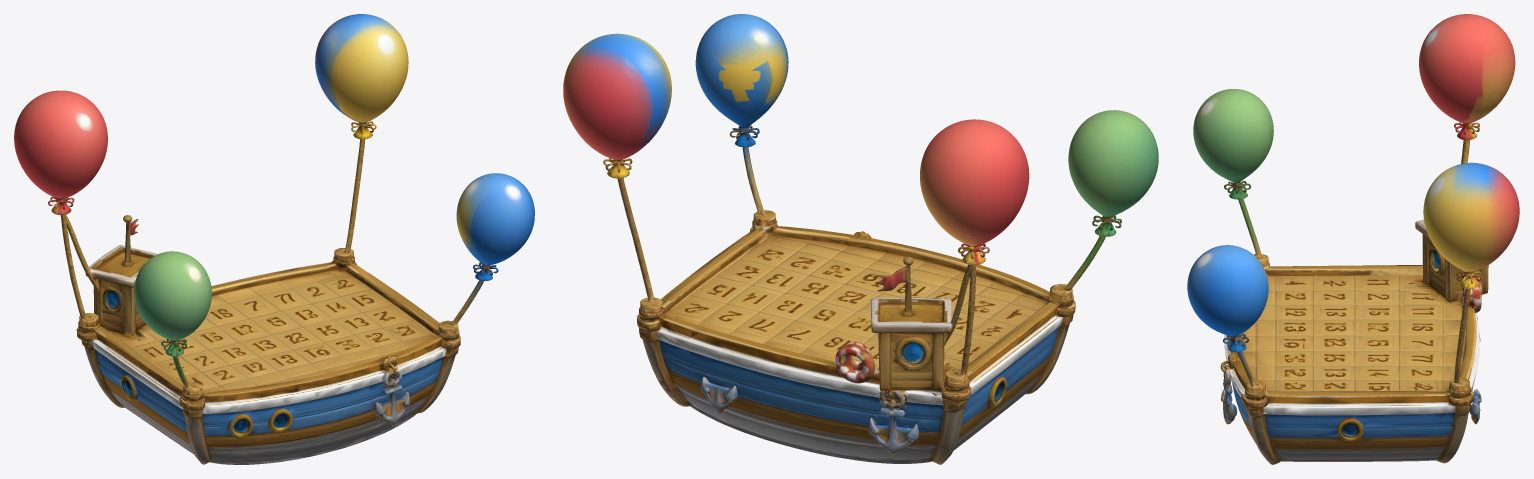
Rendered from 气球船.glb.
3 renders of one model, left to right at view 1: azimuth 30°, elevation 25°; view 2: azimuth 150°, elevation 25°; view 3: azimuth 270°, elevation 25°, orthographic. The views are drawn at different scales.
Visible parts, largest first — view 1: node_0; view 2: node_0; view 3: node_0.
Part boxes in pixels (x1=…): node_0: x1=14, y1=14, x2=534, y2=464; node_0: x1=563, y1=14, x2=1158, y2=464; node_0: x1=1187, y1=14, x2=1519, y2=464.
Bounding box in the file's own units: 0.912 × 0.7283 × 0.6648.
1 material, 1 textured.
